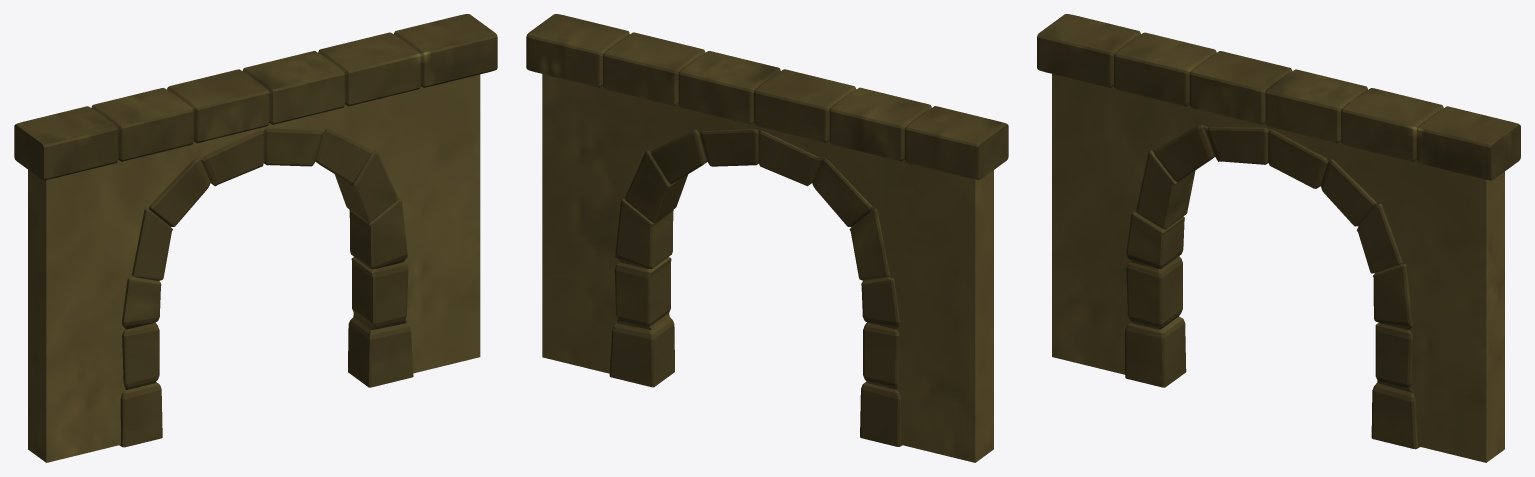
File: Wall_9.fbx
The picture shows the model from 3 angles, left to right: view 1: azimuth 30°, elevation 25°; view 2: azimuth 150°, elevation 25°; view 3: azimuth 330°, elevation 25°; orthographic projection.
Parts seen in each view (by area): view 1: Wall_9; view 2: Wall_9; view 3: Wall_9.
Boxes of the visible parts, left/top/right/bottom form: Wall_9: left=14, top=14, right=497, bottom=462; Wall_9: left=526, top=14, right=1008, bottom=462; Wall_9: left=1037, top=14, right=1520, bottom=462.
Bounding box in the file's own units: 643 × 444 × 74.99.
2 materials, 2 textured.
